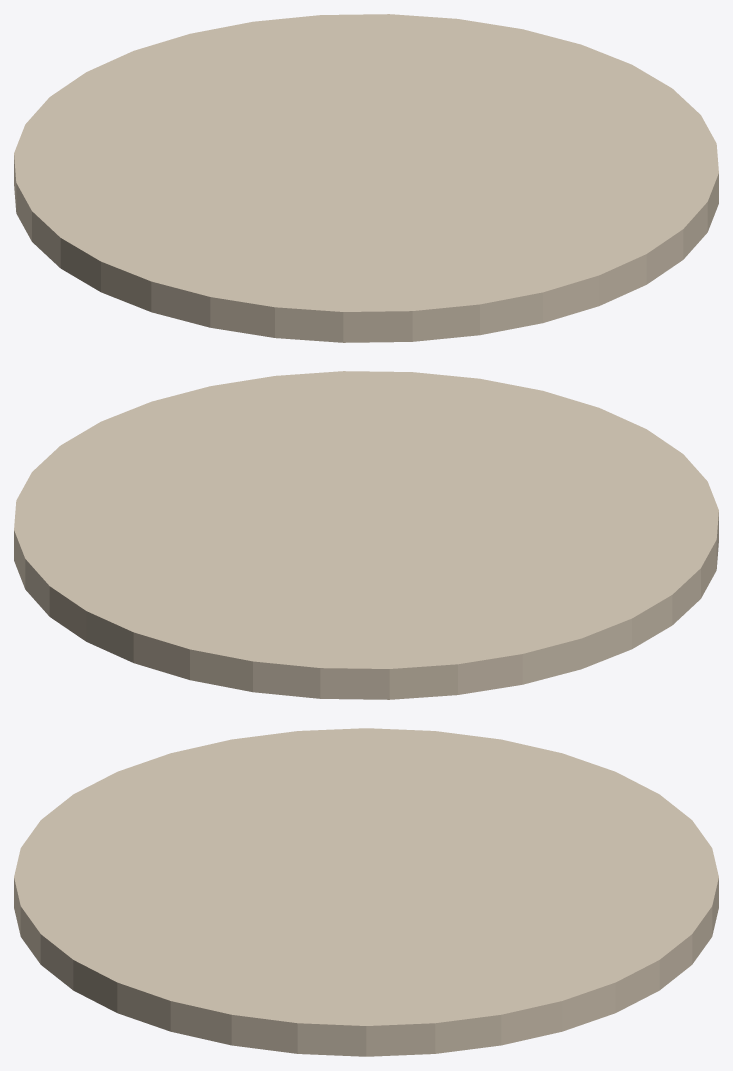
File: MOD_OUTDOOR_TABLE_SEATING_COASTAL_001_LOD_MAP.glb
The picture shows the model from 3 angles, top to bottom: view 1: azimuth 30°, elevation 25°; view 2: azimuth 150°, elevation 25°; view 3: azimuth 270°, elevation 25°; orthographic projection.
Visible parts, largest first — view 1: MOD_OUTDOOR_TABLE_SEATING_COASTAL_001_BENCH_AND_TABLE_SET_MA, MOD_OUTDOOR_TABLE_SEATING_COASTAL_001_FOUR_SEAT_SQUARE_TABL., MOD_OUTDOOR_TABLE_SEATING_COASTAL_001_UMBRELLA_TABLE_VARIANT, MOD_OUTDOOR_TABLE_SEATING_COASTAL_001_TWO_SEAT_ROUND_TABLE_.; view 2: MOD_OUTDOOR_TABLE_SEATING_COASTAL_001_BENCH_AND_TABLE_SET_MA, MOD_OUTDOOR_TABLE_SEATING_COASTAL_001_FOUR_SEAT_SQUARE_TABL., MOD_OUTDOOR_TABLE_SEATING_COASTAL_001_UMBRELLA_TABLE_VARIANT, MOD_OUTDOOR_TABLE_SEATING_COASTAL_001_TWO_SEAT_ROUND_TABLE_.; view 3: MOD_OUTDOOR_TABLE_SEATING_COASTAL_001_BENCH_AND_TABLE_SET_MA, MOD_OUTDOOR_TABLE_SEATING_COASTAL_001_UMBRELLA_TABLE_VARIANT, MOD_OUTDOOR_TABLE_SEATING_COASTAL_001_TWO_SEAT_ROUND_TABLE_., MOD_OUTDOOR_TABLE_SEATING_COASTAL_001_FOUR_SEAT_SQUARE_TABL..
Part boxes in pixels (<box>): MOD_OUTDOOR_TABLE_SEATING_COASTAL_001_BENCH_AND_TABLE_SET_MA: <box>14,14,718,342</box>; MOD_OUTDOOR_TABLE_SEATING_COASTAL_001_FOUR_SEAT_SQUARE_TABL.: <box>47,26,691,300</box>; MOD_OUTDOOR_TABLE_SEATING_COASTAL_001_UMBRELLA_TABLE_VARIANT: <box>68,37,633,288</box>; MOD_OUTDOOR_TABLE_SEATING_COASTAL_001_TWO_SEAT_ROUND_TABLE_.: <box>114,54,611,261</box>; MOD_OUTDOOR_TABLE_SEATING_COASTAL_001_BENCH_AND_TABLE_SET_MA: <box>14,371,718,699</box>; MOD_OUTDOOR_TABLE_SEATING_COASTAL_001_FOUR_SEAT_SQUARE_TABL.: <box>41,383,683,657</box>; MOD_OUTDOOR_TABLE_SEATING_COASTAL_001_UMBRELLA_TABLE_VARIANT: <box>92,394,664,645</box>; MOD_OUTDOOR_TABLE_SEATING_COASTAL_001_TWO_SEAT_ROUND_TABLE_.: <box>109,411,591,623</box>; MOD_OUTDOOR_TABLE_SEATING_COASTAL_001_BENCH_AND_TABLE_SET_MA: <box>14,728,718,1056</box>; MOD_OUTDOOR_TABLE_SEATING_COASTAL_001_UMBRELLA_TABLE_VARIANT: <box>74,751,658,1002</box>; MOD_OUTDOOR_TABLE_SEATING_COASTAL_001_TWO_SEAT_ROUND_TABLE_.: <box>111,768,620,985</box>; MOD_OUTDOOR_TABLE_SEATING_COASTAL_001_FOUR_SEAT_SQUARE_TABL.: <box>43,739,688,1014</box>.
Bounding box in the file's own units: 1.04 × 0.05 × 1.04.
